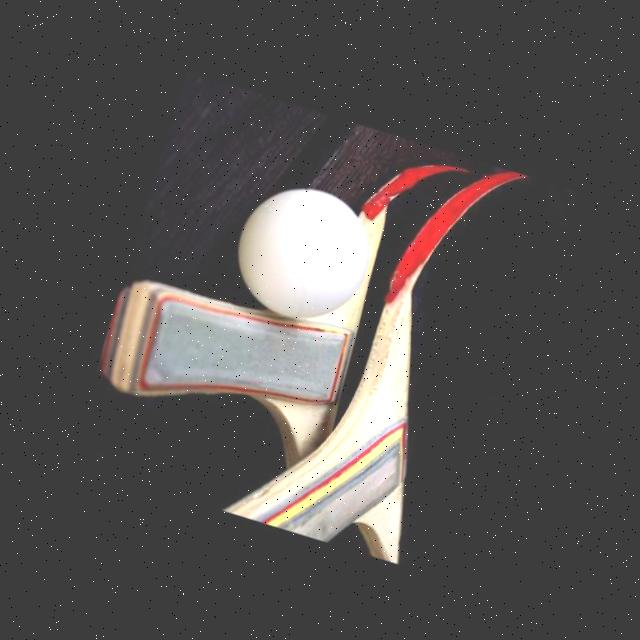ping-pong-ball: (220, 166, 388, 337)
